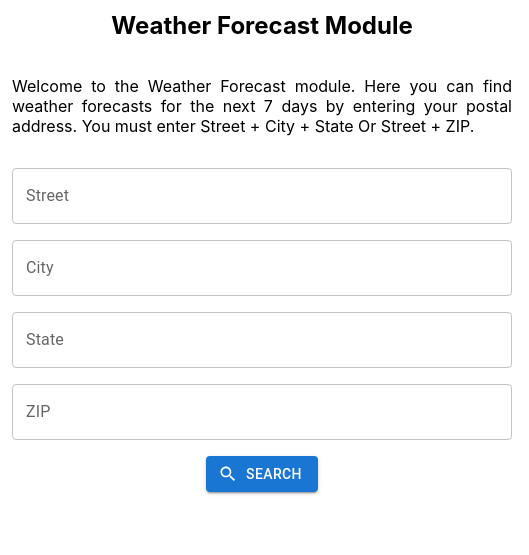
Test case: require zip code as a mandatory field
Type "4600 Silver Hill Rd" into the field labelled "Street" at {"x": 262, "y": 196}, box [12,168,512,224]
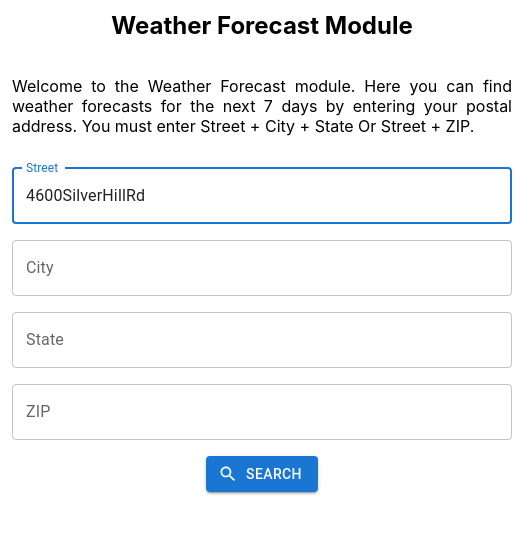
Click the button "Search" at {"x": 262, "y": 474}, box [206,456,318,492]
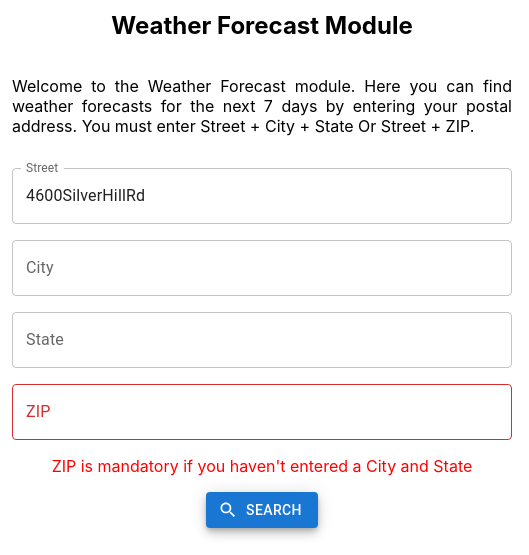
Expected: the text "ZIP is mandatory if you haven't entered a City and State" is shown, [52,456,472,476]
